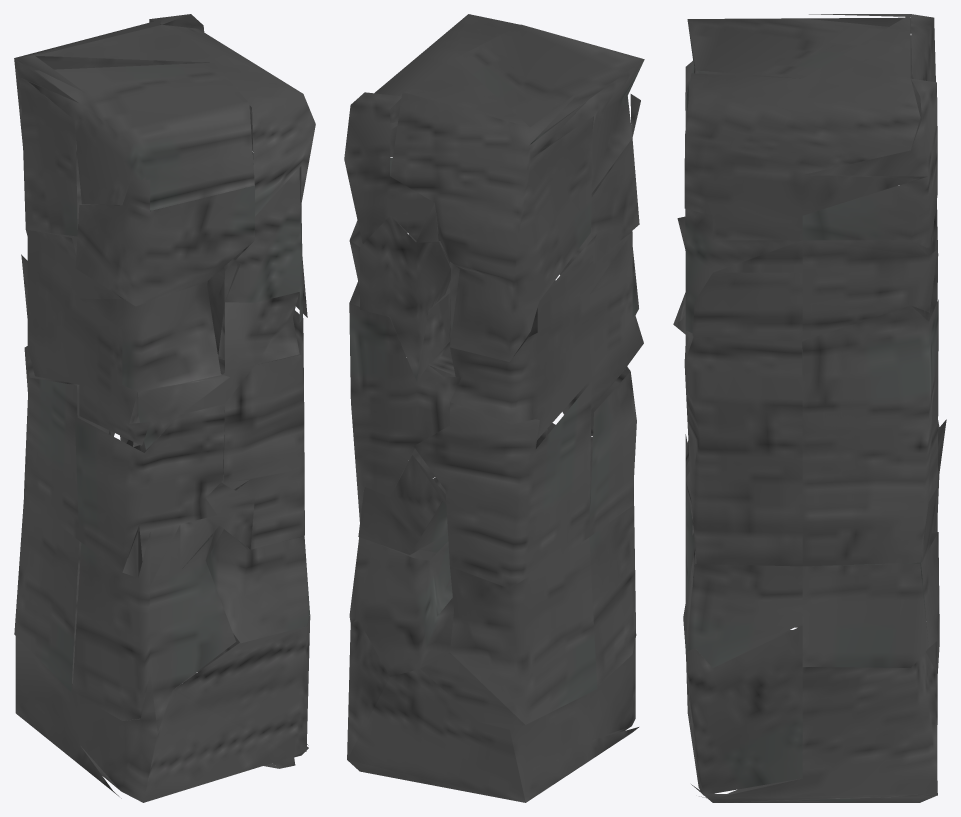
Rendered from dungeon column.glb.
The picture shows the model from 3 angles, left to right: view 1: azimuth 30°, elevation 25°; view 2: azimuth 150°, elevation 25°; view 3: azimuth 270°, elevation 25°; orthographic projection. The views are drawn at different scales.
Parts seen in each view (by area): view 1: Mesh_0; view 2: Mesh_0; view 3: Mesh_0.
Part boxes in pixels (x1,y1,x2,y2): Mesh_0: [14, 14, 315, 802]; Mesh_0: [344, 14, 644, 802]; Mesh_0: [673, 14, 946, 802].
Size of the model in its own units: 0.102 by 0.3429 by 0.1189.
Materials: 1 (1 with a texture image).
